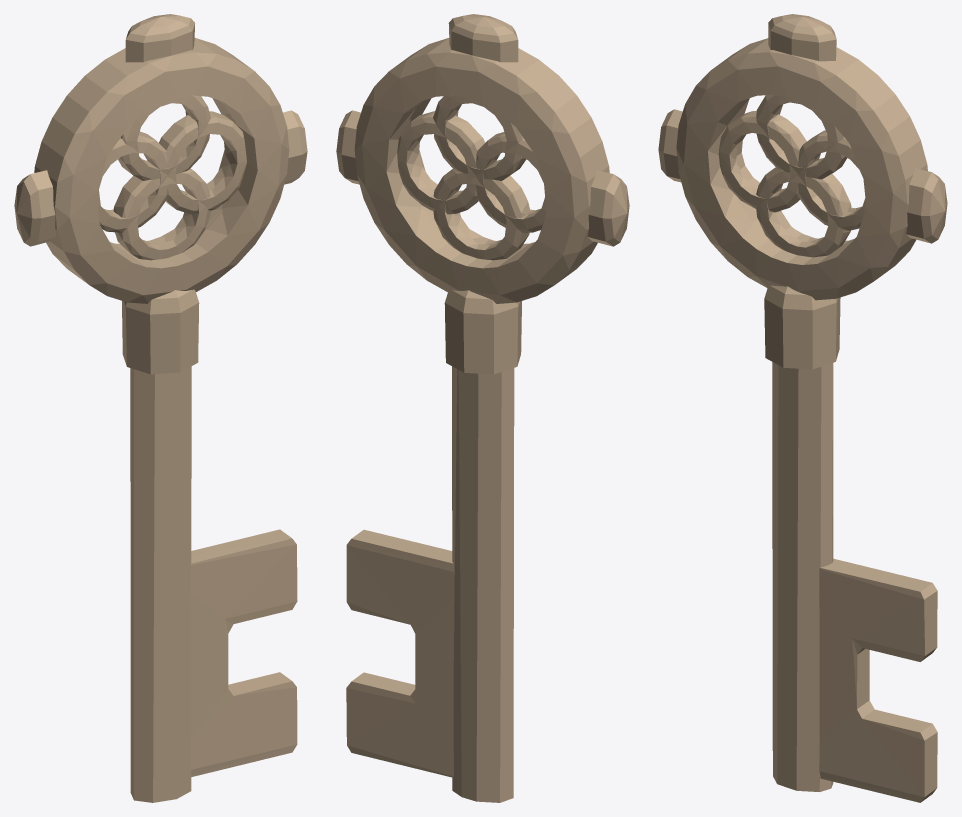
Rendered from key10.fbx.
3 views of the same model, side by side, from view 1: azimuth 30°, elevation 25°; view 2: azimuth 150°, elevation 25°; view 3: azimuth 330°, elevation 25° (orthographic).
Parts seen in each view (by area): view 1: key_10.002; view 2: key_10.002; view 3: key_10.002.
Boxes of the visible parts, bbox=[...] form: key_10.002: bbox=[14, 14, 307, 802]; key_10.002: bbox=[336, 14, 629, 802]; key_10.002: bbox=[658, 14, 947, 802].
Bounding box in the file's own units: 408 × 1048 × 98.25.
